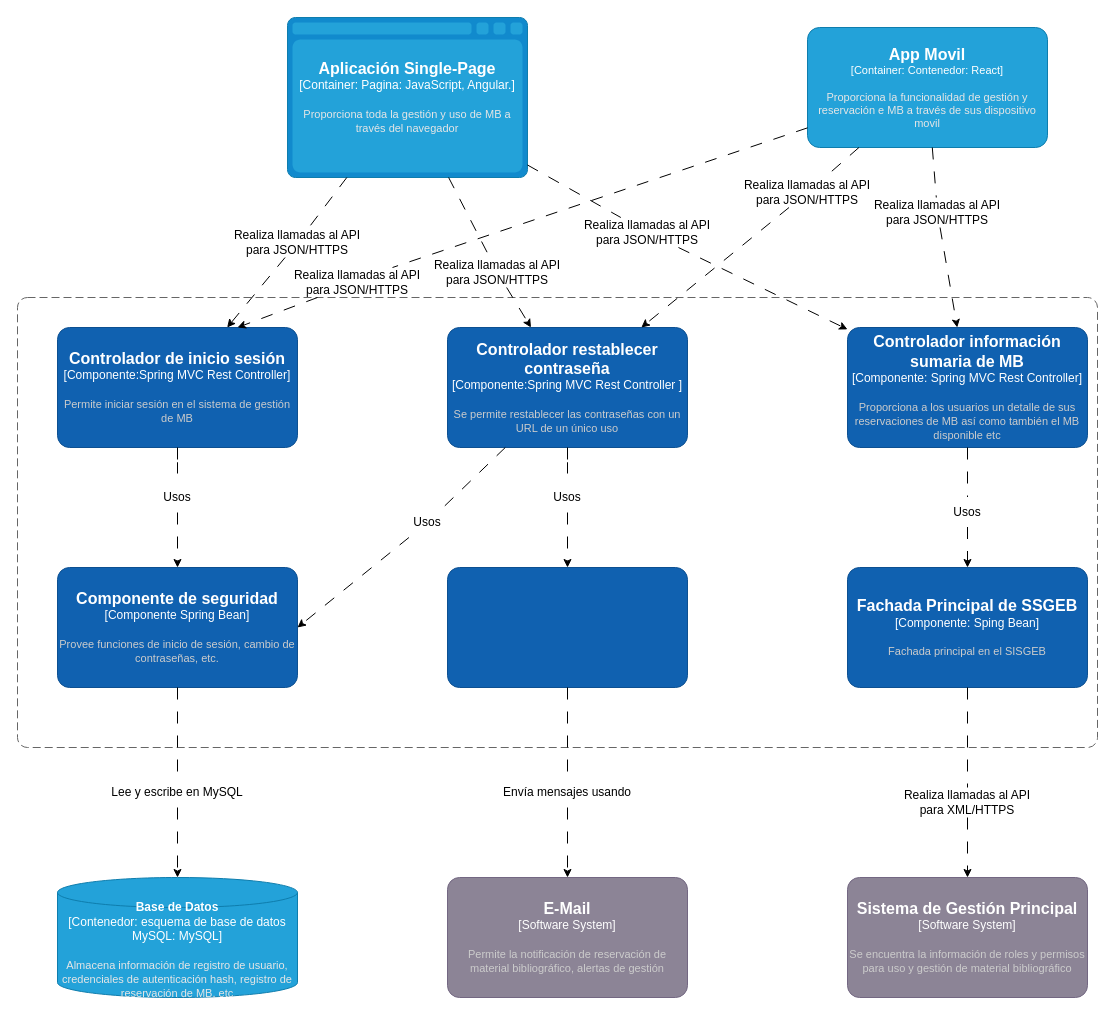
Image size: 1115x1018. Some labels were removed from this diagram. The box of each missing label's shape, as (x1, y1, x2, y2) in pixels:
API Aplicación [%c4Application%]: (16, 296, 1098, 748)
Componente de correo [Componente:Spring Bean] Envía correos a los usuarios: (446, 566, 688, 688)
